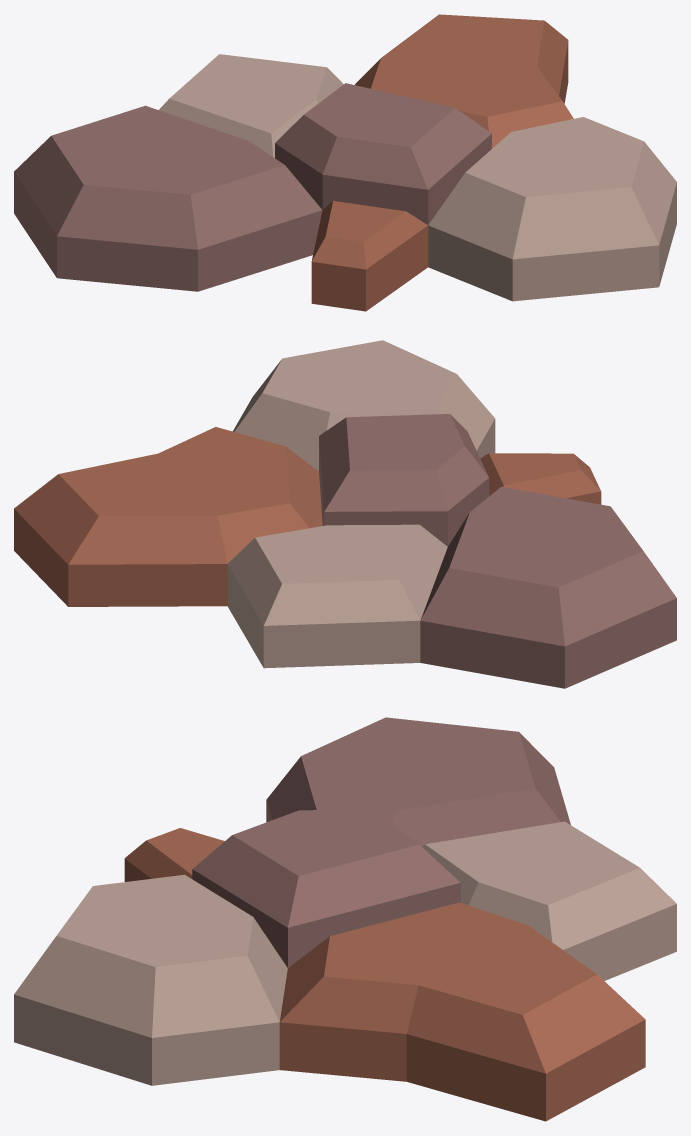
Rendered from Rock_Type4_02.glb.
3 views of the same model, one above another, from view 1: azimuth 30°, elevation 25°; view 2: azimuth 150°, elevation 25°; view 3: azimuth 270°, elevation 25° (orthographic). The views are drawn at different scales.
Visible parts, largest first — view 1: Rock Type4 02 mesh; view 2: Rock Type4 02 mesh; view 3: Rock Type4 02 mesh.
Boxes of the visible parts, bbox=[...] form: Rock Type4 02 mesh: bbox=[14, 14, 676, 311]; Rock Type4 02 mesh: bbox=[14, 340, 676, 688]; Rock Type4 02 mesh: bbox=[14, 717, 676, 1121].
Size of the model in its own units: 3.03 by 0.53 by 2.61.
Materials: 1 (1 with a texture image).
